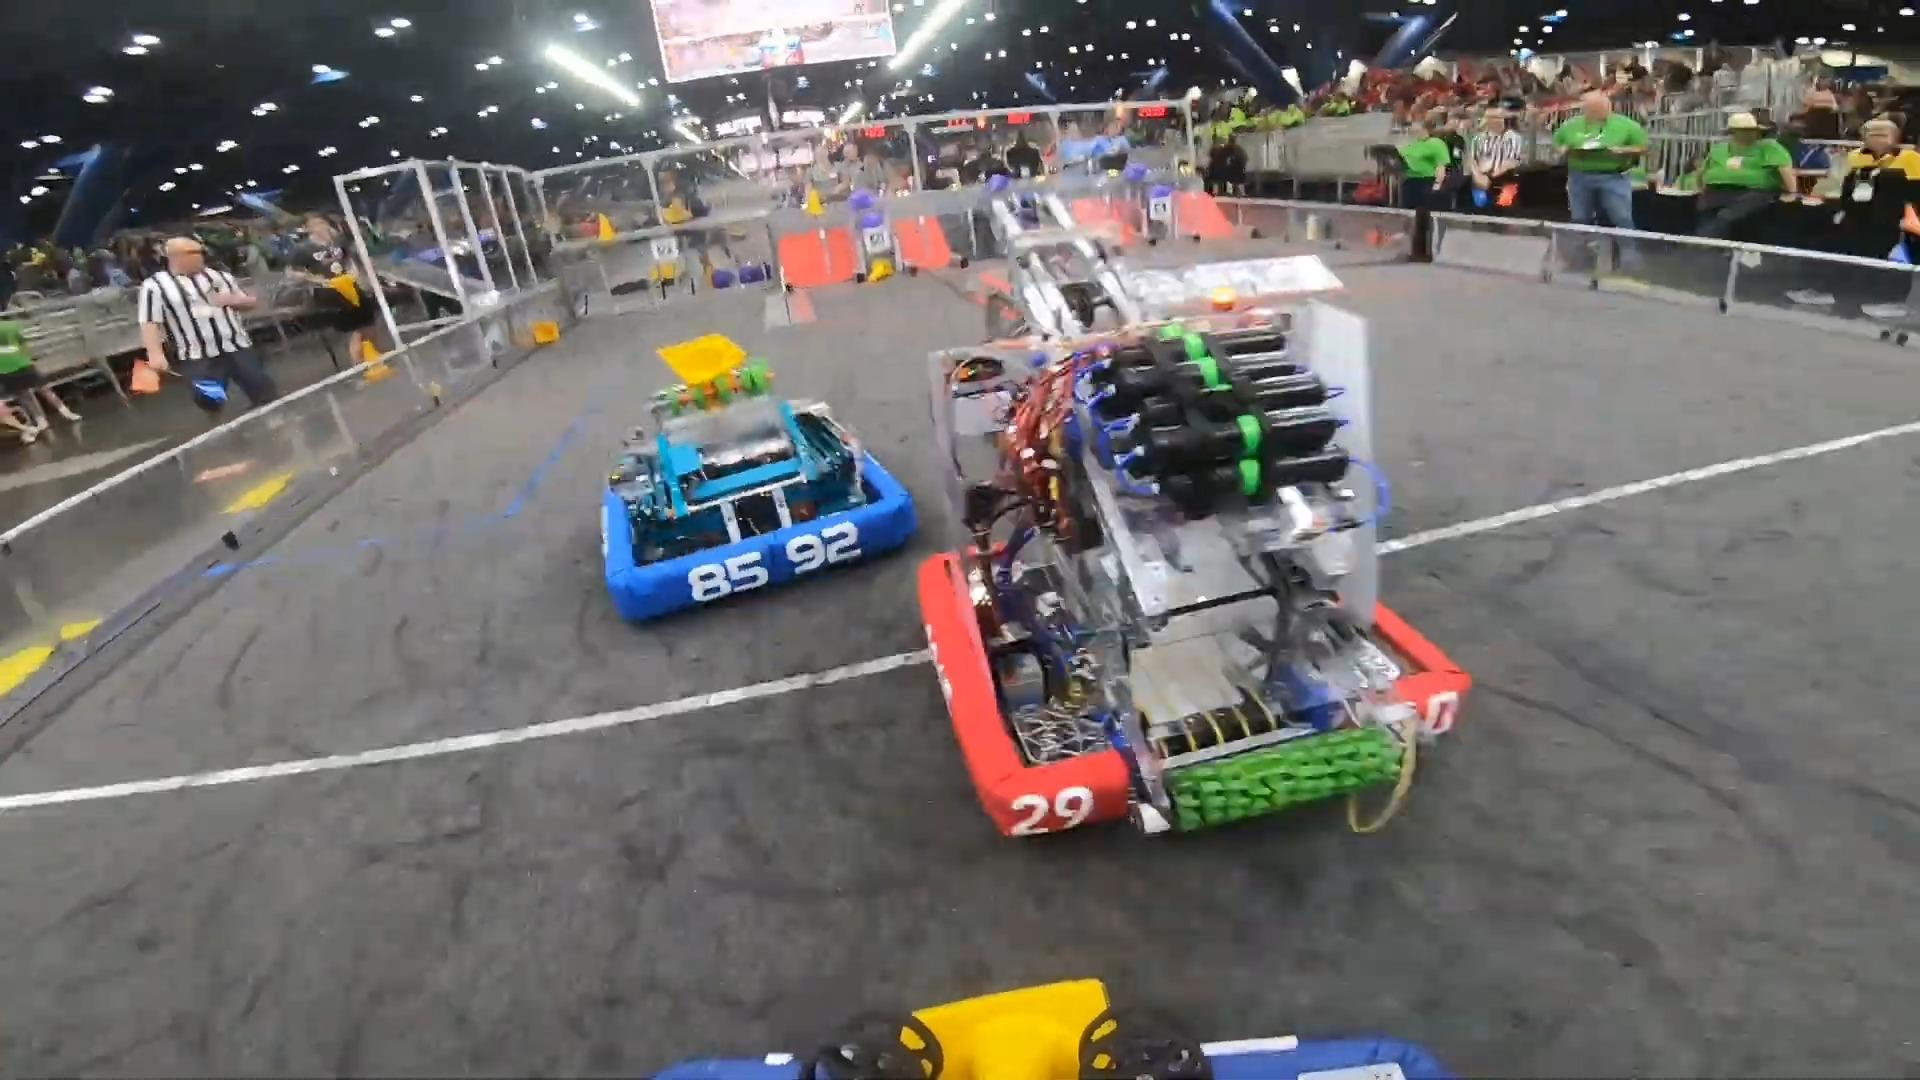robot: (922, 191, 1476, 858), (599, 357, 919, 624)
